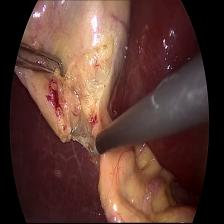Grasper: (12, 42, 66, 80)
Hook: (84, 133, 103, 158)
